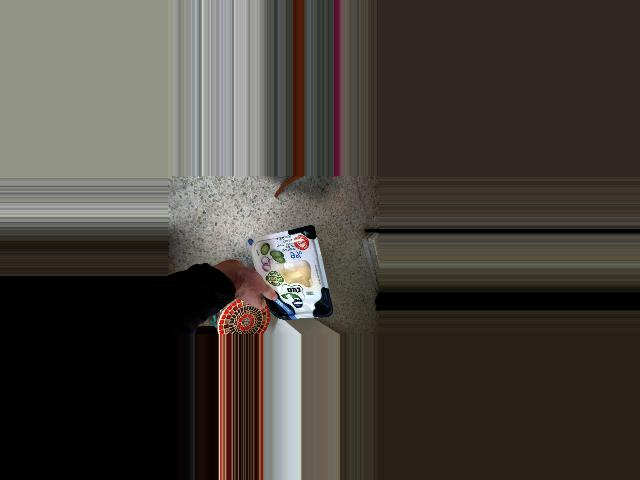cheese: (256, 224, 325, 325)
